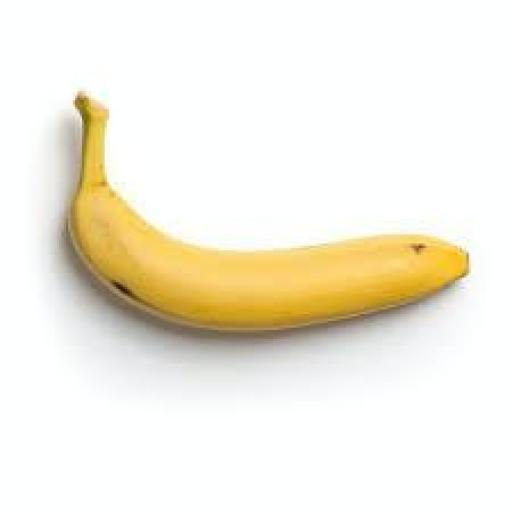banana: (71, 94, 468, 329)
